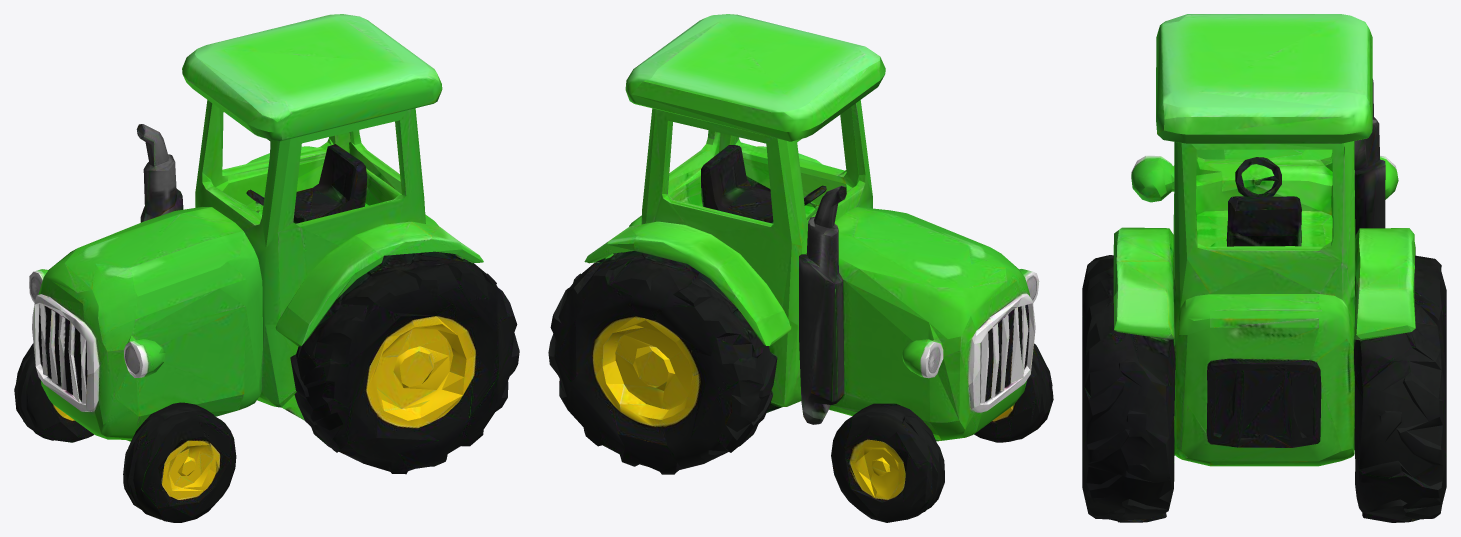
File: prop-tractor.glb
3 renders of one model, left to right at view 1: azimuth 30°, elevation 25°; view 2: azimuth 150°, elevation 25°; view 3: azimuth 270°, elevation 25°, orthographic. The views are drawn at different scales.
Bounding box in the file's own units: 1.9 × 1.73 × 1.31.
1 material, 1 textured.
